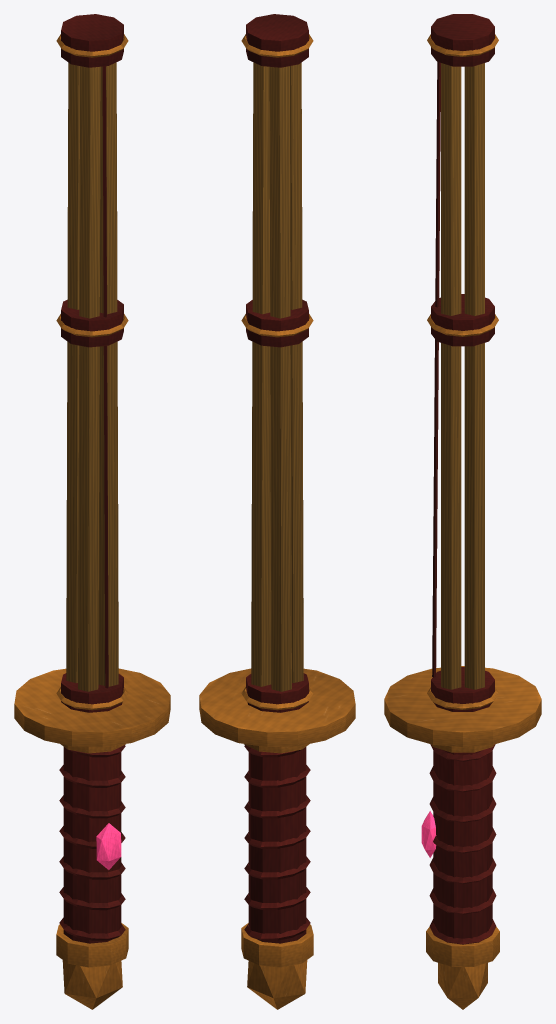
File: shinai-t3.glb
3 views of the same model, side by side, from view 1: azimuth 30°, elevation 25°; view 2: azimuth 150°, elevation 25°; view 3: azimuth 270°, elevation 25° (orthographic).
Parts seen in each view (by area): view 1: Bamboo stave, Bamboo stave.002, Leather grip, Shinai tsuba, Bamboo stave.001, Shinai binding.002, Shinai tension cord, Faceted pommel, Grip ferrule, Shinai binding.001, Shinai binding, Grip seal (+8 smaller); view 2: Bamboo stave.001, Bamboo stave.003, Leather grip, Shinai tsuba, Bamboo stave, Shinai binding.002, Faceted pommel, Grip ferrule, Shinai binding.001, Shinai binding, Raised grip wrap.002, Raised grip wrap.004 (+7 smaller); view 3: Bamboo stave.002, Bamboo stave.003, Leather grip, Shinai tsuba, Shinai tension cord, Shinai binding.002, Shinai binding.001, Grip ferrule, Faceted pommel, Shinai binding, Raised grip wrap.004, Raised grip wrap.002 (+9 smaller).
Boxes of the visible parts, x1,y1,x2,y2 form: Bamboo stave: (78,66,100,691); Bamboo stave.002: (98,62,118,686); Leather grip: (63,747,121,943); Shinai tsuba: (14,668,170,747); Bamboo stave.001: (66,62,79,682); Shinai binding.002: (61,14,123,67); Shinai tension cord: (102,66,108,688); Faceted pommel: (62,960,122,1009); Grip ferrule: (56,923,128,967); Shinai binding.001: (61,299,123,347); Shinai binding: (61,673,123,712); Grip seal: (96,823,121,869); Bamboo stave.001: (269,66,291,691); Bamboo stave.003: (251,62,271,686); Leather grip: (248,747,306,943); Shinai tsuba: (199,668,355,747); Bamboo stave: (290,62,303,682); Shinai binding.002: (246,14,308,67); Faceted pommel: (247,960,307,1009); Grip ferrule: (241,923,313,967); Shinai binding.001: (246,299,308,347); Shinai binding: (246,673,308,712); Raised grip wrap.002: (244,856,310,879); Raised grip wrap.004: (244,795,310,818); Bamboo stave.002: (441,63,461,689); Bamboo stave.003: (464,63,484,689); Leather grip: (433,750,492,938); Shinai tsuba: (384,666,541,747); Shinai tension cord: (432,62,440,677); Shinai binding.002: (431,14,494,66); Shinai binding.001: (431,294,494,346); Grip ferrule: (426,927,499,966); Faceted pommel: (438,962,487,1009); Shinai binding: (431,667,494,711); Raised grip wrap.004: (429,797,496,822); Raised grip wrap.002: (429,858,496,884).
Size of the model in its own units: 0.167 by 1.15 by 0.167.
1 material, 1 textured.
